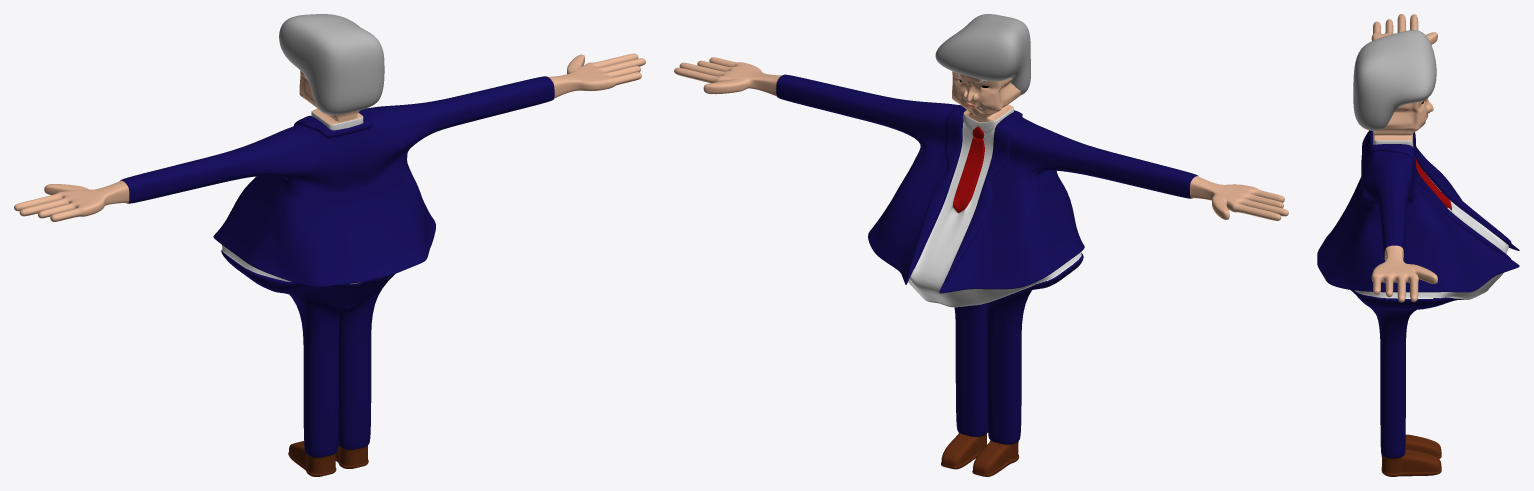
Rendered from krampstext.fbx.
The picture shows the model from 3 angles, left to right: view 1: azimuth 30°, elevation 25°; view 2: azimuth 150°, elevation 25°; view 3: azimuth 270°, elevation 25°; orthographic projection. The views are drawn at different scales.
Visible parts, largest first — view 1: Cube.001; view 2: Cube.001; view 3: Cube.001.
Part boxes in pixels (x1,y1,x2,y2): Cube.001: (14,14,645,476); Cube.001: (674,14,1288,476); Cube.001: (1317,14,1519,476).
Size of the model in its own units: 288 by 198 by 86.34.
